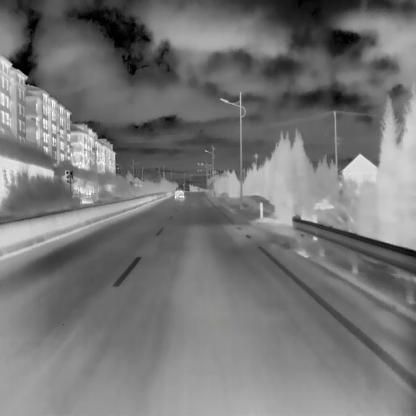car: (174, 186, 184, 198)
